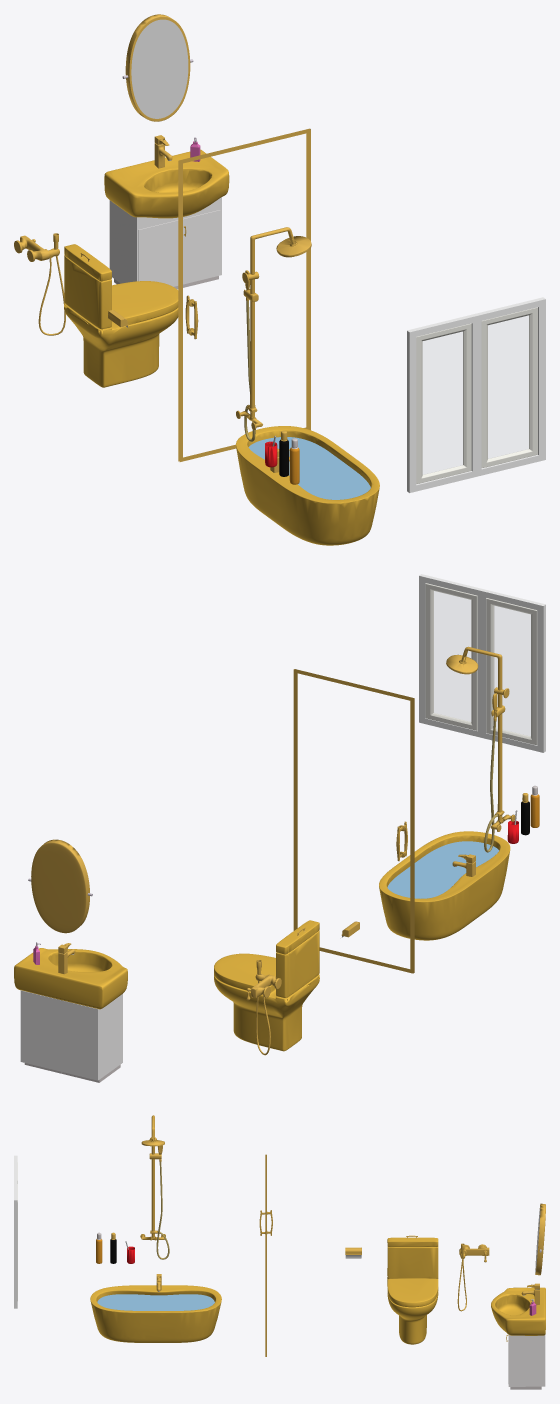
The model's file is bathroom.glb.
3 views of the same model, one above another, from view 1: azimuth 30°, elevation 25°; view 2: azimuth 150°, elevation 25°; view 3: azimuth 270°, elevation 25° (orthographic). The views are drawn at different scales.
Visible parts, largest first — view 1: Object_44, Object_4, Object_17, Object_40, Object_45, Object_43, Object_38, Object_19, partition_frame, Object_56, Object_68, Object_20 (+1 smaller); view 2: Object_4, Object_44, Object_40, Object_17, Object_45, Object_43, Object_38, Object_20, partition_frame, Object_56, Object_68; view 3: Object_17, Object_4, Object_38, Object_40, Object_56, Object_68, Object_45, Object_20, partition_frame.
Boxes of the visible parts, box(x1,y1,x2,y2) form: Object_44: box(423, 316, 528, 473); Object_4: box(64, 244, 178, 387); Object_17: box(236, 426, 379, 545); Object_40: box(109, 197, 221, 286); Object_45: box(407, 297, 545, 492); Object_43: box(416, 307, 537, 483); Object_38: box(104, 149, 229, 218); Object_19: box(131, 19, 188, 118); partition_frame: box(178, 128, 310, 461); Object_56: box(248, 437, 370, 499); Object_68: box(236, 227, 311, 429); Object_20: box(125, 14, 190, 121); Object_4: box(214, 920, 319, 1051); Object_44: box(434, 591, 530, 735); Object_40: box(20, 990, 122, 1080); Object_17: box(379, 831, 510, 940); Object_45: box(419, 574, 545, 752); Object_43: box(425, 583, 537, 744); Object_38: box(14, 948, 127, 1009); Object_20: box(31, 839, 89, 933); partition_frame: box(293, 669, 414, 973); Object_56: box(387, 841, 499, 898); Object_68: box(446, 646, 515, 831); Object_17: box(90, 1285, 221, 1342); Object_4: box(387, 1237, 438, 1344); Object_38: box(491, 1287, 545, 1335); Object_40: box(508, 1334, 545, 1386); Object_56: box(97, 1294, 214, 1310); Object_68: box(140, 1115, 165, 1240); Object_45: box(14, 1155, 17, 1308); Object_20: box(535, 1203, 545, 1275); partition_frame: box(265, 1154, 266, 1356).
Size of the model in its own units: 7.5 by 8.81 by 20.66.
